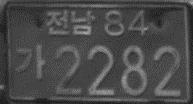2: (152, 43, 181, 97), (85, 44, 115, 95), (53, 44, 82, 95)
4: (128, 9, 148, 36)
8: (120, 44, 147, 96), (104, 9, 125, 36)
가: (14, 44, 46, 79)
전남_O: (45, 8, 96, 34)
